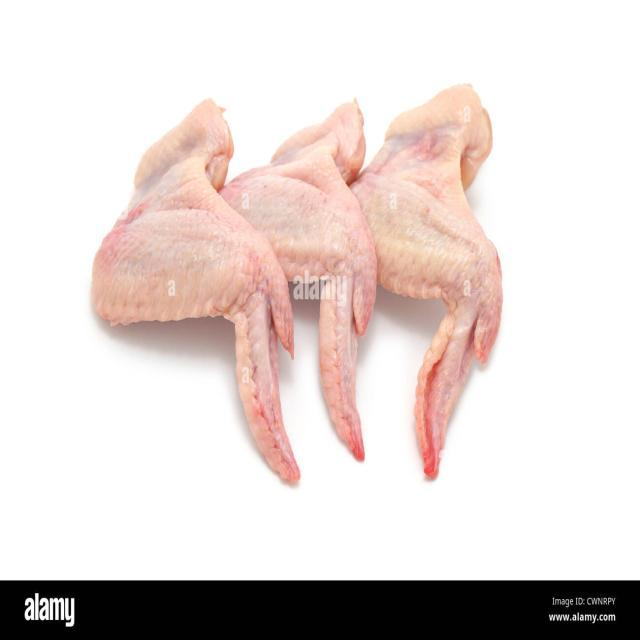wing: (86, 96, 302, 494), (350, 55, 501, 480), (228, 80, 378, 467)
